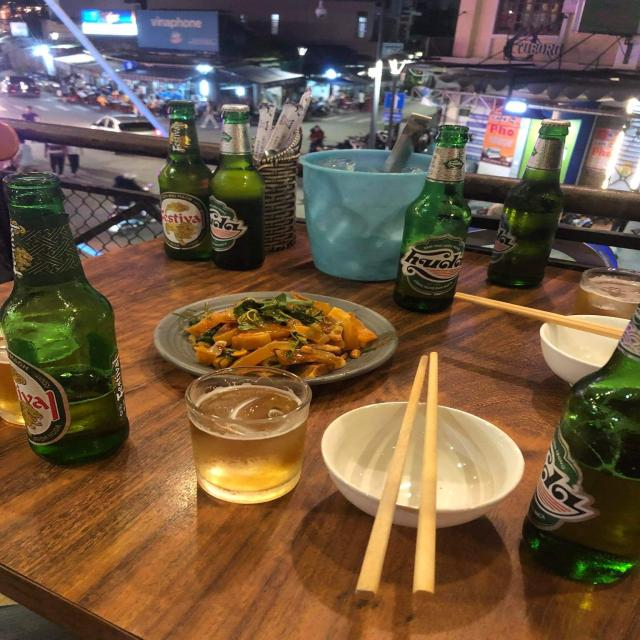bia: (0, 167, 130, 463), (515, 289, 640, 594), (192, 372, 308, 502), (485, 119, 570, 286), (397, 128, 464, 312), (206, 100, 266, 270), (158, 100, 208, 262)
heo xao: (174, 296, 379, 374)
